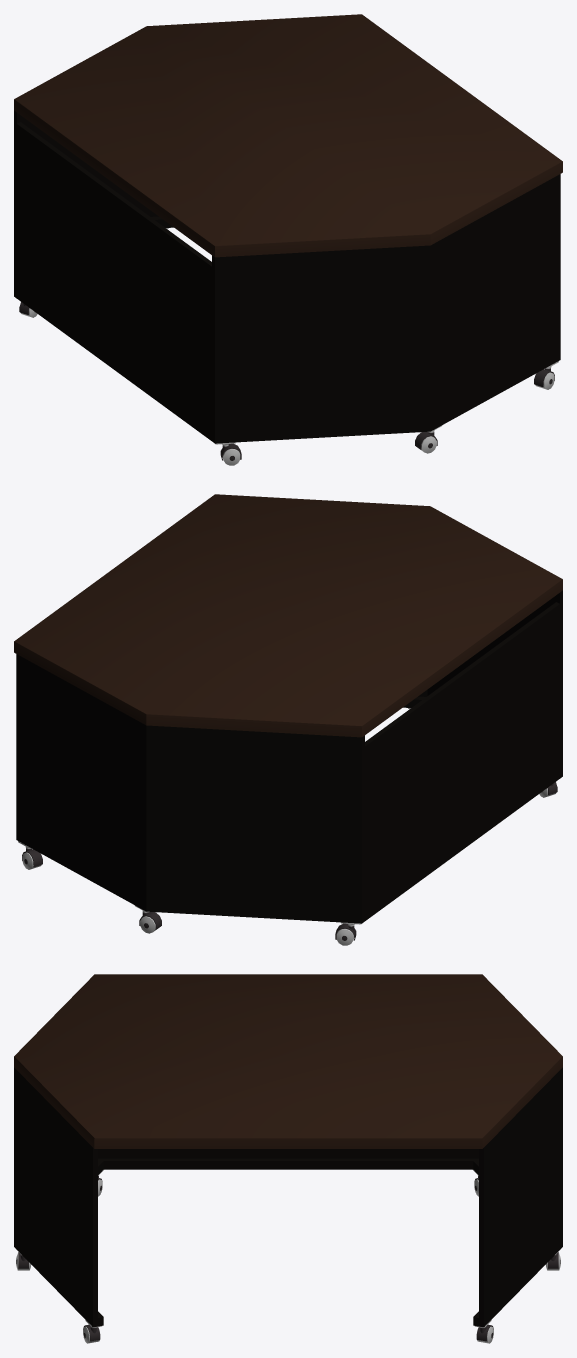
Rendered from DGS_Desk02.fbx.
3 views of the same model, one above another, from view 1: azimuth 30°, elevation 25°; view 2: azimuth 150°, elevation 25°; view 3: azimuth 270°, elevation 25° (orthographic). The views are drawn at different scales.
Visible parts, largest first — view 1: 4' Table; view 2: 4' Table; view 3: 4' Table.
Part boxes in pixels (x1=…): 4' Table: x1=14, y1=14, x2=562, y2=465; 4' Table: x1=14, y1=494, x2=562, y2=945; 4' Table: x1=14, y1=974, x2=562, y2=1343.
Bounding box in the file's own units: 122 × 73.7 × 172.
